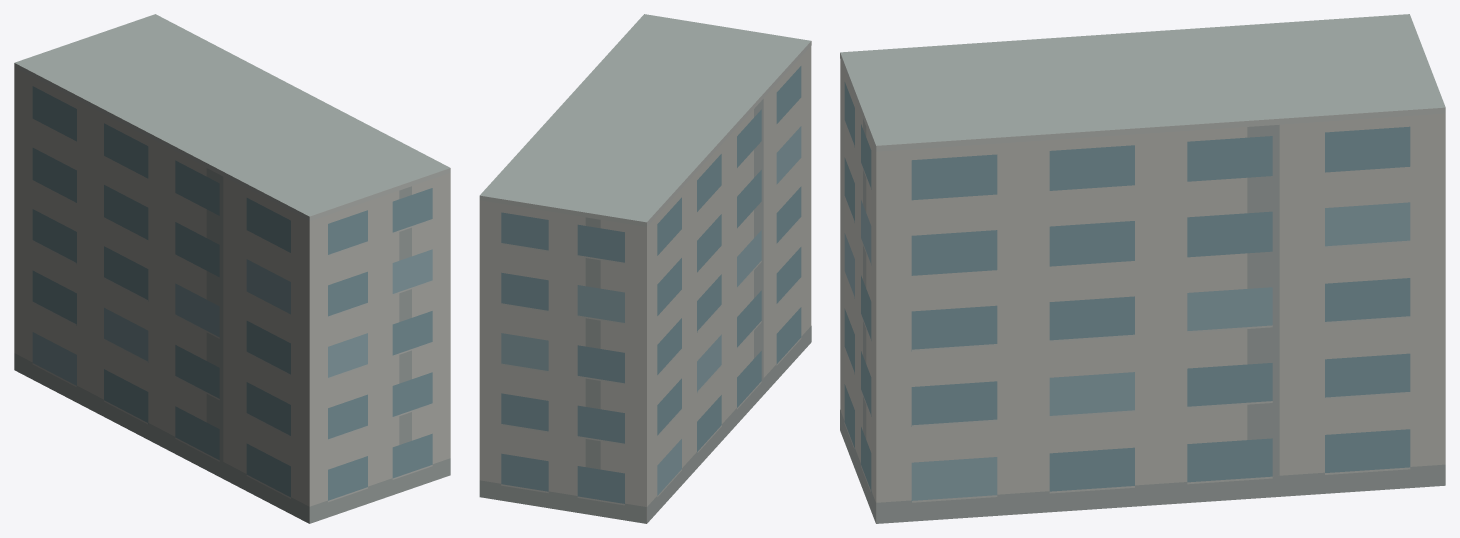
File: survey-upis-32765598.glb
3 views of the same model, side by side, from view 1: azimuth 30°, elevation 25°; view 2: azimuth 150°, elevation 25°; view 3: azimuth 270°, elevation 25° (orthographic). The views are drawn at different scales.
Visible parts, largest first — view 1: survey-upis-32765598.tmp; view 2: survey-upis-32765598.tmp; view 3: survey-upis-32765598.tmp.
Part boxes in pixels (x1=…): survey-upis-32765598.tmp: x1=14, y1=14, x2=450, y2=523; survey-upis-32765598.tmp: x1=479, y1=14, x2=811, y2=523; survey-upis-32765598.tmp: x1=840, y1=14, x2=1445, y2=523.
Size of the model in its own units: 11.41 by 15.25 by 22.15.
